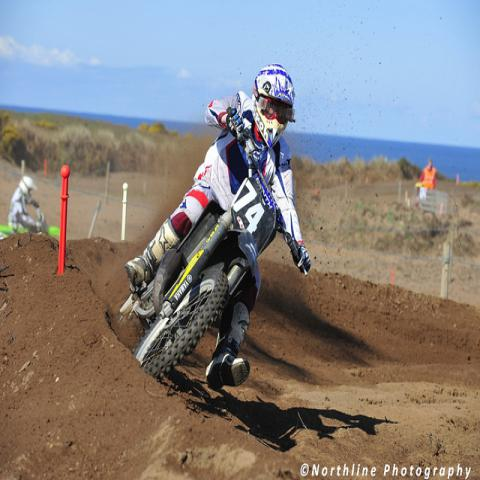motorcycle: (128, 114, 302, 379), (0, 224, 61, 243)
